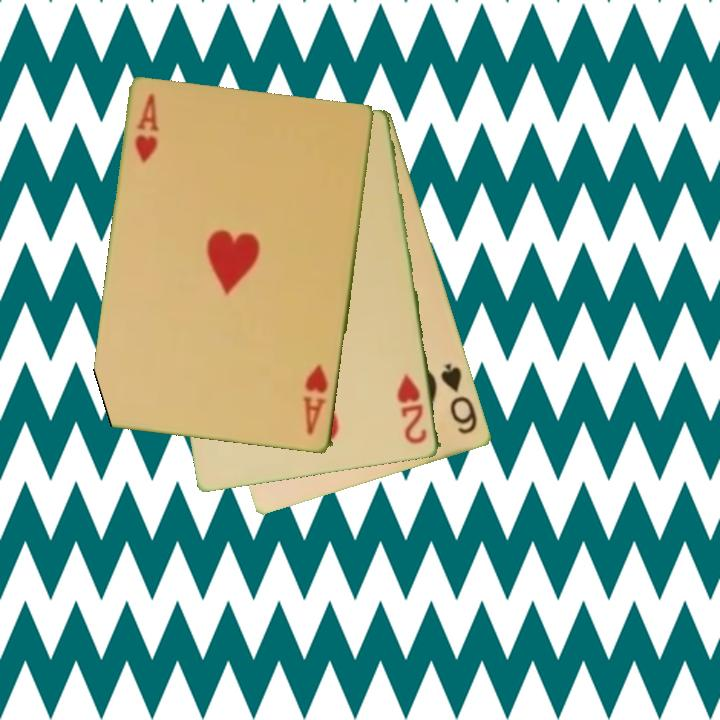2h: (394, 370, 431, 447)
6s: (437, 360, 481, 438)
Ah: (300, 361, 332, 439), (132, 90, 162, 166)
